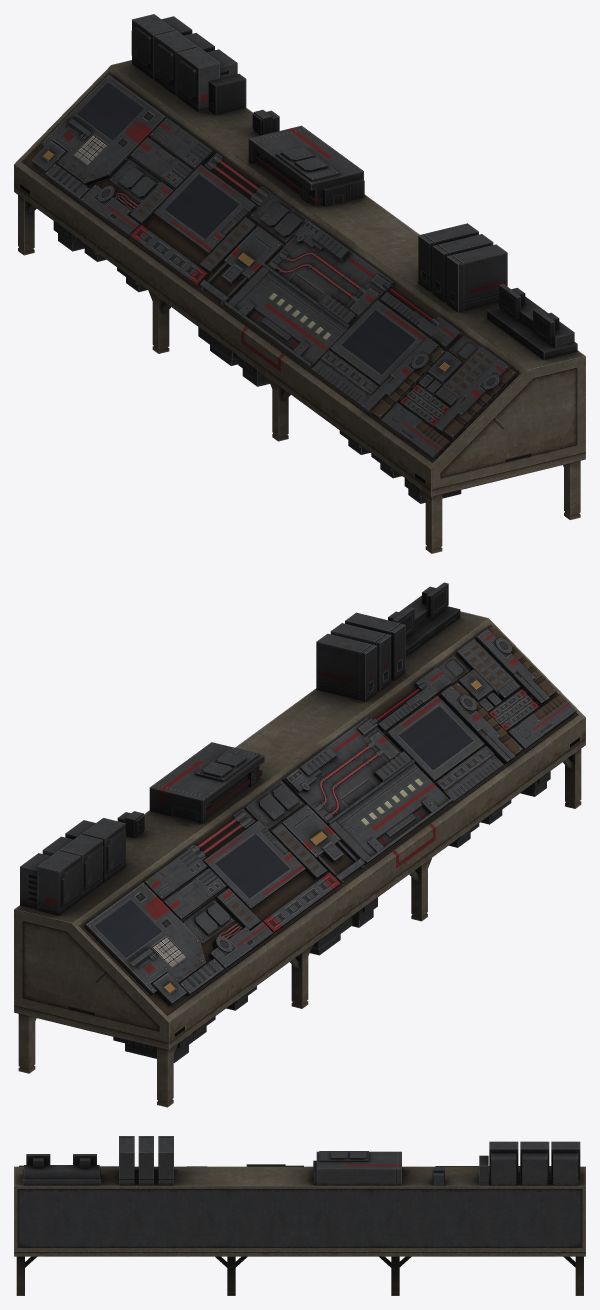
The model's file is computer_data_tunnel_terminal.DAE.
3 renders of one model, top to bottom at view 1: azimuth 30°, elevation 25°; view 2: azimuth 150°, elevation 25°; view 3: azimuth 270°, elevation 25°, orthographic. The views are drawn at different scales.
Visible parts, largest first — view 1: computer_data_tunnel_terminal; view 2: computer_data_tunnel_terminal; view 3: computer_data_tunnel_terminal.
Part boxes in pixels (x1,y1,x2,y2): computer_data_tunnel_terminal: (14, 14, 585, 553); computer_data_tunnel_terminal: (14, 582, 585, 1107); computer_data_tunnel_terminal: (14, 1136, 585, 1295).
Size of the model in its own units: 150 by 701 by 195.
